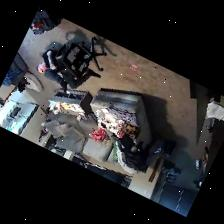person: (37, 49, 100, 91)
